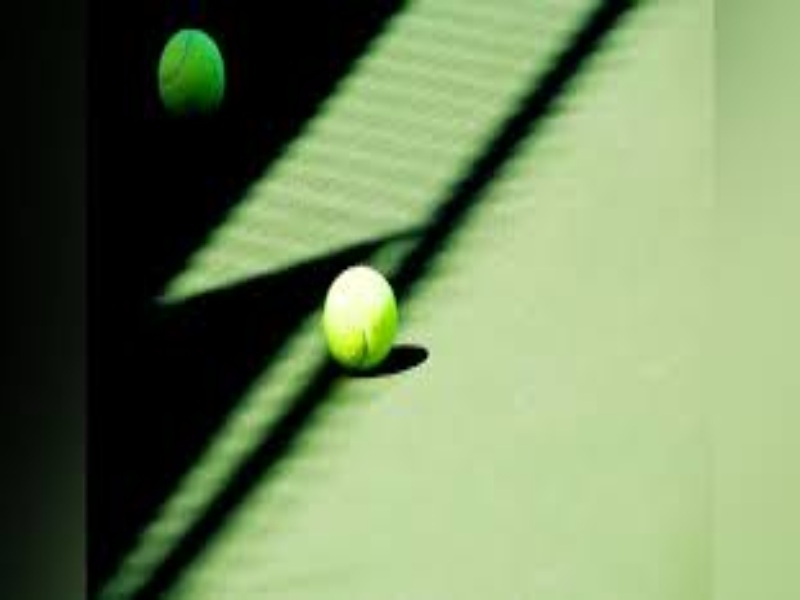tennis ball: (305, 247, 435, 391), (143, 17, 268, 140)
